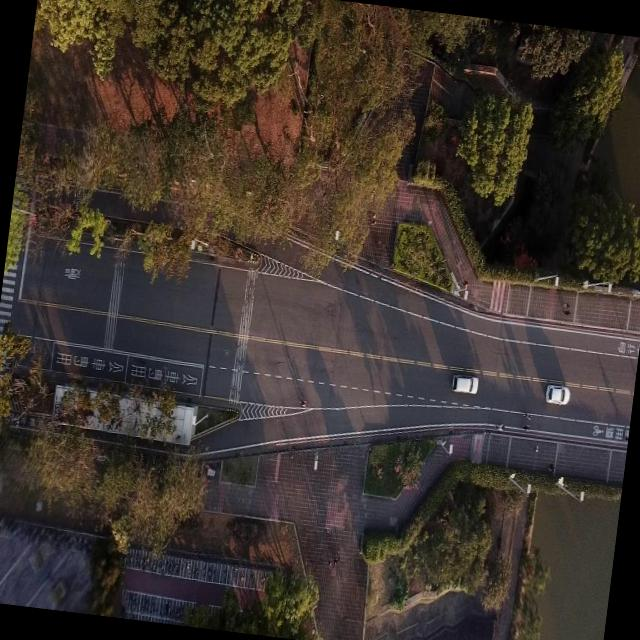car: (449, 372, 479, 396), (543, 380, 570, 406)
